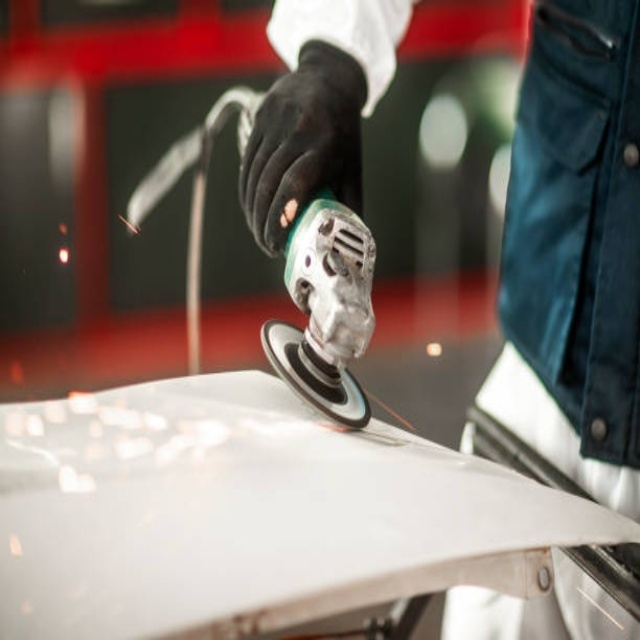Guantes: (235, 40, 368, 262)
